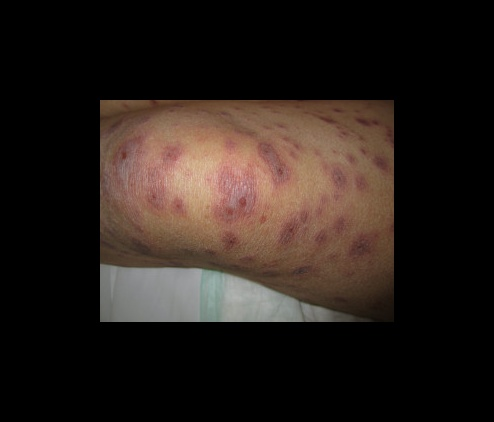SJS-TEN: (98, 97, 402, 330)
